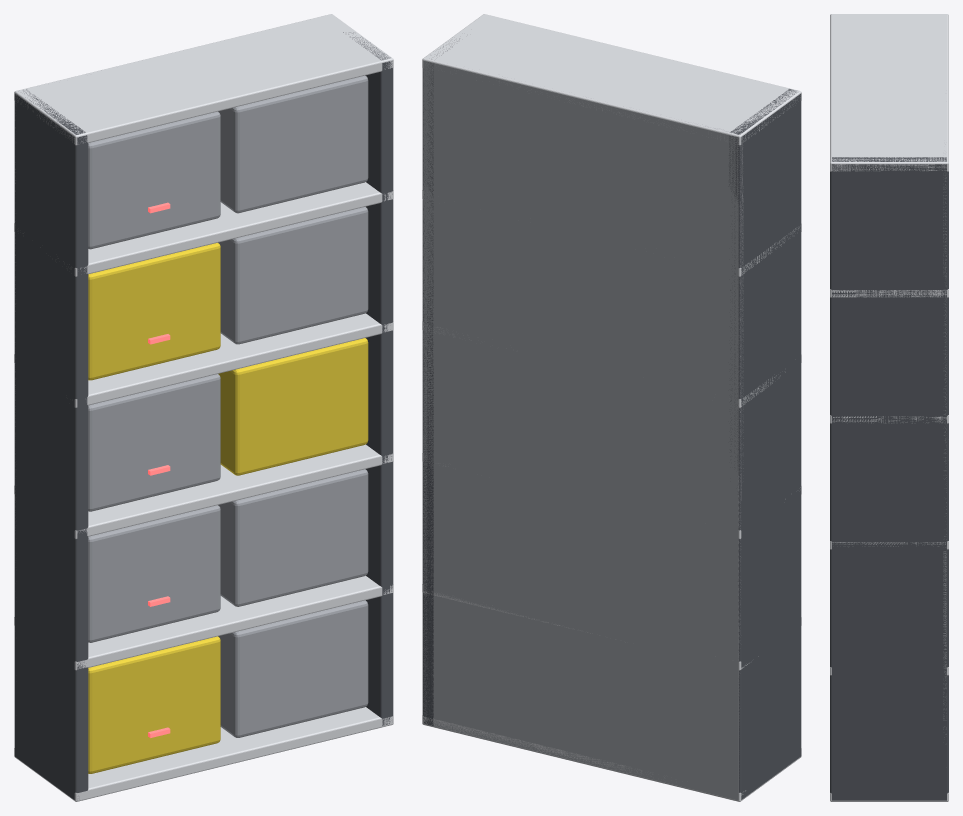
The model's file is bookshelf_crate_shelf.glb.
3 renders of one model, left to right at view 1: azimuth 30°, elevation 25°; view 2: azimuth 150°, elevation 25°; view 3: azimuth 270°, elevation 25°, orthographic. The views are drawn at different scales.
Visible parts, largest first — view 1: GD_bookshelf_crate_shelf__m1, GD_bookshelf_crate_shelf__m0, GD_bookshelf_crate_shelf__m4, GD_bookshelf_crate_shelf__m3, GD_bookshelf_crate_shelf__m2; view 2: GD_bookshelf_crate_shelf__m1, GD_bookshelf_crate_shelf__m0, GD_bookshelf_crate_shelf__m4; view 3: GD_bookshelf_crate_shelf__m0, GD_bookshelf_crate_shelf__m4, GD_bookshelf_crate_shelf__m1.
Boxes of the visible parts, x1,y1,x2,y2 form: GD_bookshelf_crate_shelf__m1: (15,75,368,737); GD_bookshelf_crate_shelf__m0: (14,32,393,800); GD_bookshelf_crate_shelf__m4: (14,14,393,801); GD_bookshelf_crate_shelf__m3: (88,242,368,773); GD_bookshelf_crate_shelf__m2: (148,202,170,737); GD_bookshelf_crate_shelf__m1: (423,60,743,800); GD_bookshelf_crate_shelf__m0: (422,38,801,799); GD_bookshelf_crate_shelf__m4: (422,14,801,801); GD_bookshelf_crate_shelf__m0: (830,157,948,800); GD_bookshelf_crate_shelf__m4: (830,14,948,801); GD_bookshelf_crate_shelf__m1: (943,144,946,737).
Size of the model in its own units: 0.95 by 1.9 by 0.32.
